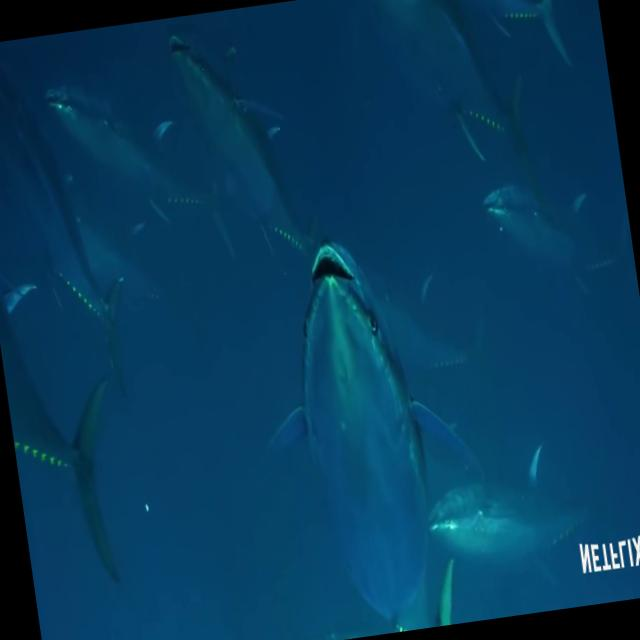fish: (238, 198, 501, 640), (154, 9, 346, 315), (0, 30, 144, 428), (28, 53, 255, 283), (0, 253, 138, 597), (407, 427, 608, 628), (381, 0, 541, 200), (470, 156, 640, 331), (450, 0, 585, 102)
